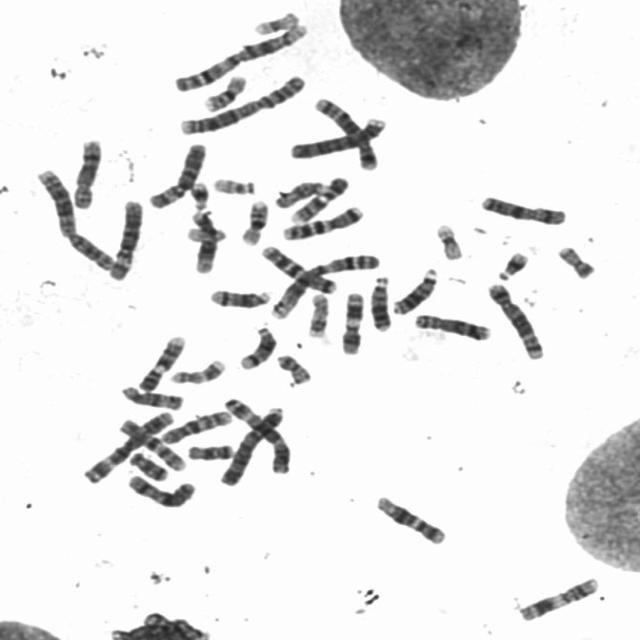A1: (168, 16, 312, 93), (267, 248, 383, 320)
A2: (31, 162, 119, 272), (174, 68, 310, 135)
A3: (78, 406, 177, 484), (216, 394, 292, 481)
B4: (214, 399, 290, 487), (284, 111, 390, 160)
B5: (308, 92, 382, 171), (482, 276, 548, 361)
C10: (114, 413, 190, 472), (155, 404, 235, 445)
C11: (513, 570, 604, 623), (336, 286, 368, 356)
C12: (370, 489, 450, 546), (186, 206, 221, 274)
C6: (143, 136, 210, 209), (103, 194, 147, 281)
C7: (256, 240, 340, 295), (276, 200, 368, 242)
C8: (67, 132, 106, 210), (409, 307, 495, 342)
C9: (134, 329, 190, 392), (286, 171, 352, 224)
D13: (388, 262, 442, 316), (366, 270, 395, 332)
D14: (234, 320, 281, 371), (204, 283, 274, 310)
D15: (268, 174, 329, 210), (116, 380, 187, 410)
E16: (198, 68, 252, 113), (235, 195, 272, 246)
E17: (166, 353, 230, 385), (303, 288, 332, 338)
E18: (123, 446, 171, 482), (182, 438, 238, 462)
F19: (248, 5, 302, 36), (430, 217, 468, 261)
F20: (552, 239, 599, 280), (272, 348, 316, 385)
G21: (492, 245, 532, 281), (185, 176, 211, 210)
G22: (208, 171, 259, 196), (176, 227, 230, 247)
X: (476, 189, 571, 227), (122, 469, 199, 509)
